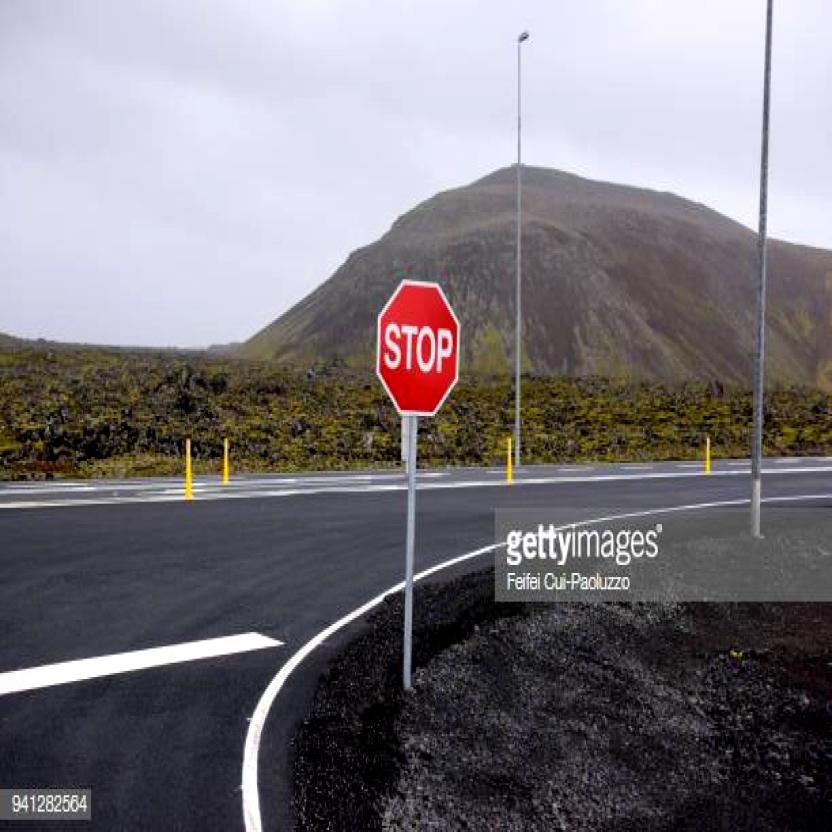Pole: (402, 425, 416, 692)
Sign: (372, 279, 461, 420)
